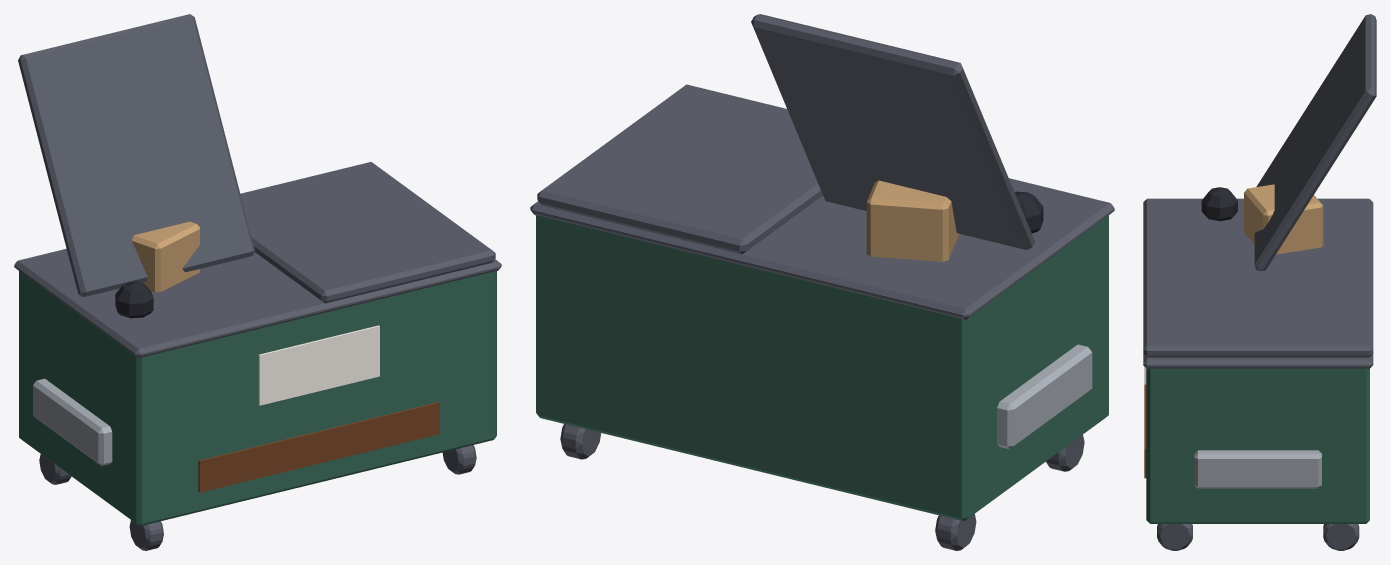
The model's file is CatCafe_Alley_Dumpster.glb.
3 renders of one model, left to right at view 1: azimuth 30°, elevation 25°; view 2: azimuth 150°, elevation 25°; view 3: azimuth 270°, elevation 25°, orthographic. The views are drawn at different scales.
Visible parts, largest first — view 1: CatCafe_Alley_Dumpster; view 2: CatCafe_Alley_Dumpster; view 3: CatCafe_Alley_Dumpster.
Part boxes in pixels (box(x1,y1,x2,y2)): CatCafe_Alley_Dumpster: box(14, 14, 501, 550); CatCafe_Alley_Dumpster: box(530, 14, 1114, 550); CatCafe_Alley_Dumpster: box(1143, 14, 1376, 550).
Bounding box in the file's own units: 6.4 × 6.67 × 3.66.
1 material, 1 textured.
